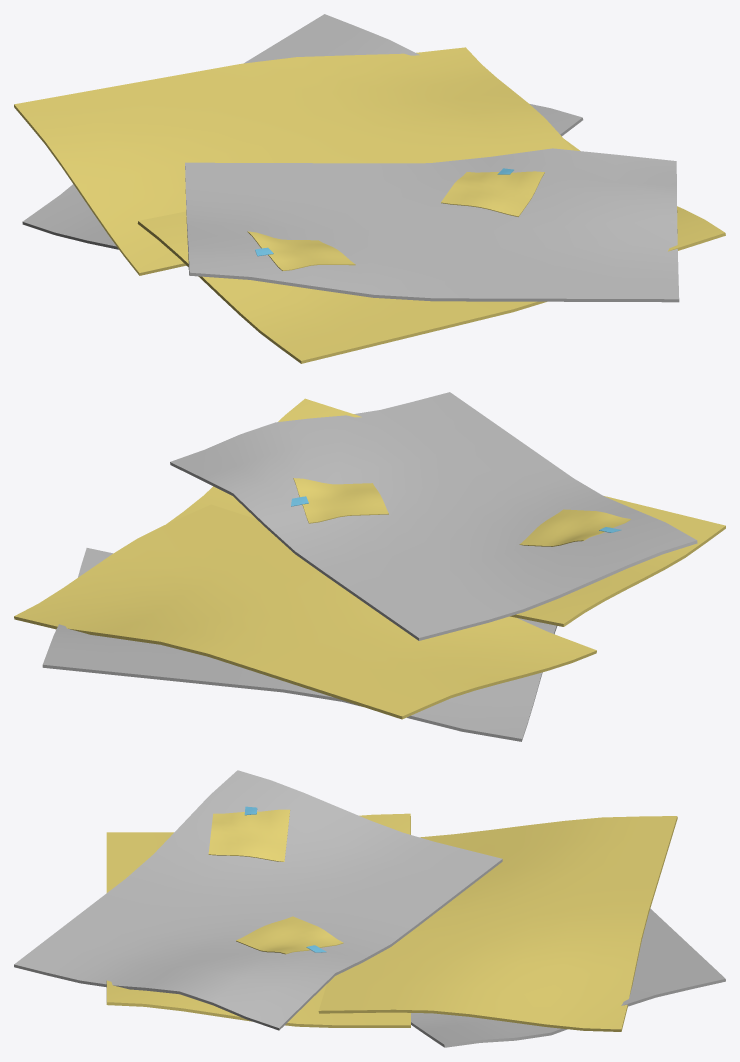
Rendered from papeles.glb.
The picture shows the model from 3 angles, top to bottom: view 1: azimuth 30°, elevation 25°; view 2: azimuth 150°, elevation 25°; view 3: azimuth 270°, elevation 25°; orthographic projection. The views are drawn at different scales.
Visible parts, largest first — view 1: Plane.001, Plane.002; view 2: Plane.001, Plane.002; view 3: Plane.001, Plane.002.
Boxes of the visible parts, left/top/right/bottom form: Plane.001: left=137, top=138, right=725, bottom=363; Plane.002: left=14, top=14, right=583, bottom=275; Plane.001: left=167, top=392, right=725, bottom=640; Plane.002: left=14, top=504, right=596, bottom=741; Plane.001: left=14, top=770, right=502, bottom=1030; Plane.002: left=318, top=816, right=725, bottom=1047.
Bounding box in the file's own units: 3.6 × 0.554 × 4.68.
